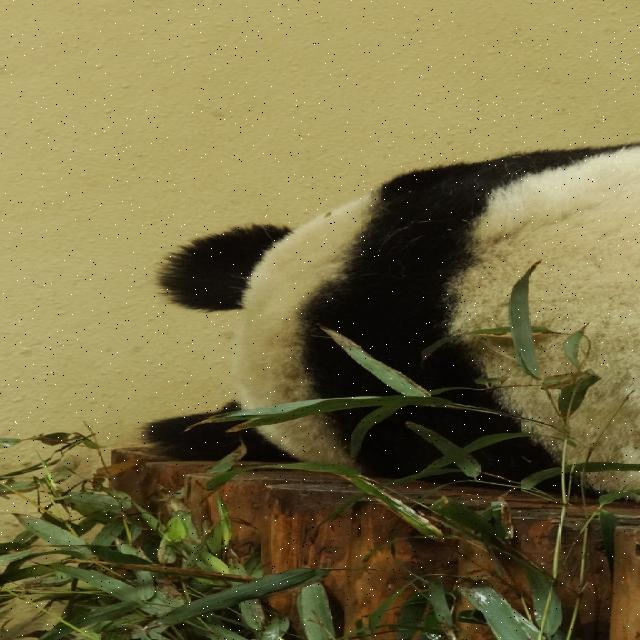panda: (140, 134, 639, 504)
